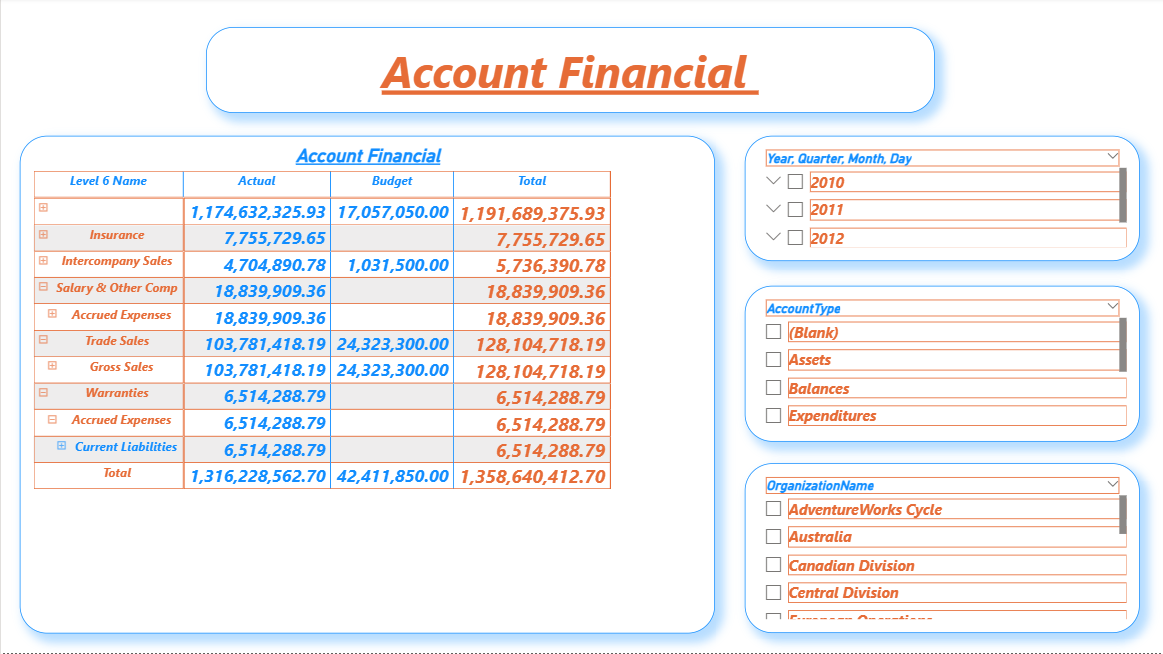

Layout of this report page (visuals, bound fields, positions):
{"tool":"powerbi","page":{"name":"Account Financial Matrix","canvas":[1280,720],"ordinal":2},"visuals":[{"type":"pivotTable","title":"Account Financial ","fields":{"Rows":["DimAccount.Level 6 Name Hierarchy.Level 6 Name","DimAccount.Level 6 Name Hierarchy.Level 5 Name","DimAccount.Level 6 Name Hierarchy.Level 4 Name","DimAccount.Level 6 Name Hierarchy.Level 3 Name","DimAccount.Level 6 Name Hierarchy.Level 2 Name","DimAccount.Level 6 Name Hierarchy.Level 1 Name"],"Columns":["DimScenario.ScenarioName"],"Values":["FactFinance.Total Amount"]},"box":[20.6,152.3,763,546.1],"z":0},{"type":"slicer","fields":{"Values":["FactFinance.Date.Variation.Date Hierarchy.Year","FactFinance.Date.Variation.Date Hierarchy.Quarter","FactFinance.Date.Variation.Date Hierarchy.Month","FactFinance.Date.Variation.Date Hierarchy.Day"]},"box":[816.5,152.3,433.6,137.2],"z":1},{"type":"textbox","box":[225,32.9,800,94.7],"z":2},{"type":"slicer","fields":{"Values":["DimAccount.AccountType"]},"box":[816.5,317,433.6,171.5],"z":3},{"type":"slicer","fields":{"Values":["DimOrganization.OrganizationName"]},"box":[816.5,511.8,433.6,186.6],"z":4}]}

Visuals, with their boxes in screenshot pixels (x1, y1, x2, y2), scaled from the page's 1280x720 canvas onto the 1163x654 screenshot:
"Account Financial " pivotTable: region(19, 138, 712, 634)
slicer - FactFinance.Date.Variation.Date Hierarchy.Year x FactFinance.Date.Variation.Date Hierarchy.Quarter: region(742, 138, 1136, 263)
textbox: region(204, 30, 931, 116)
slicer - DimAccount.AccountType: region(742, 288, 1136, 444)
slicer - DimOrganization.OrganizationName: region(742, 465, 1136, 634)
